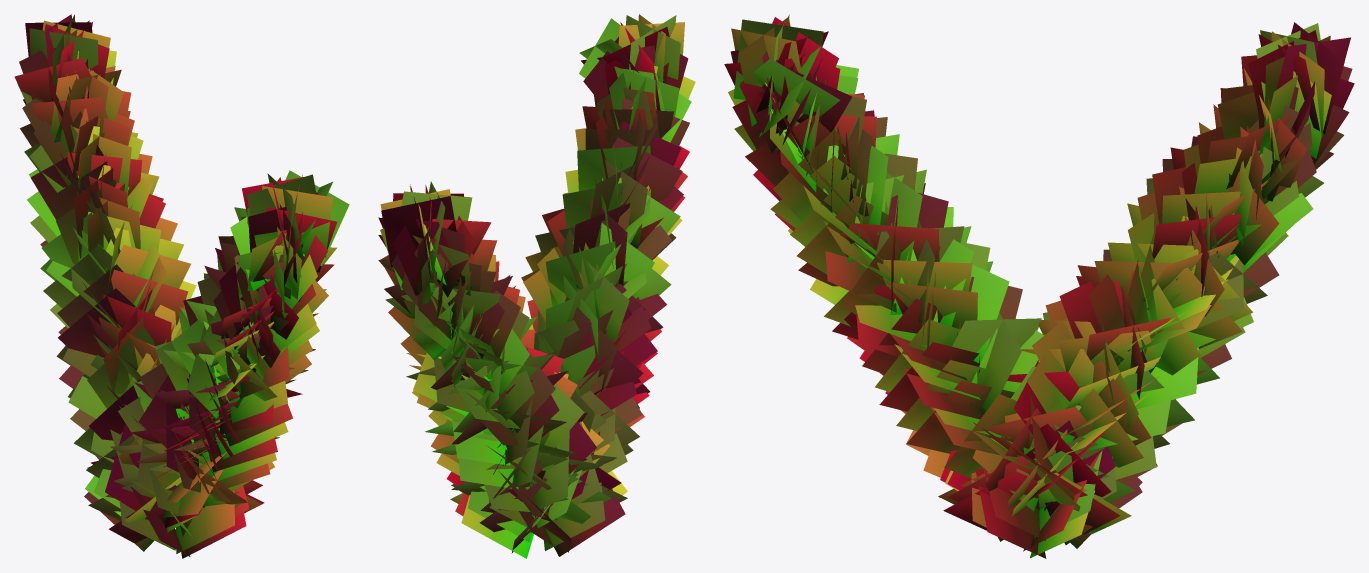
Rendered from URP_P4_Tree_12_LOD_1.fbx.
3 views of the same model, side by side, from view 1: azimuth 30°, elevation 25°; view 2: azimuth 150°, elevation 25°; view 3: azimuth 270°, elevation 25° (orthographic). The views are drawn at different scales.
Parts seen in each view (by area): view 1: Tree_12_LOD_1; view 2: Tree_12_LOD_1; view 3: Tree_12_LOD_1.
Boxes of the visible parts, box(x1,y1,x2,y2) form: Tree_12_LOD_1: box(14, 14, 349, 558); Tree_12_LOD_1: box(378, 14, 695, 558); Tree_12_LOD_1: box(724, 14, 1354, 558).
Size of the model in its own units: 211 by 588 by 646.
